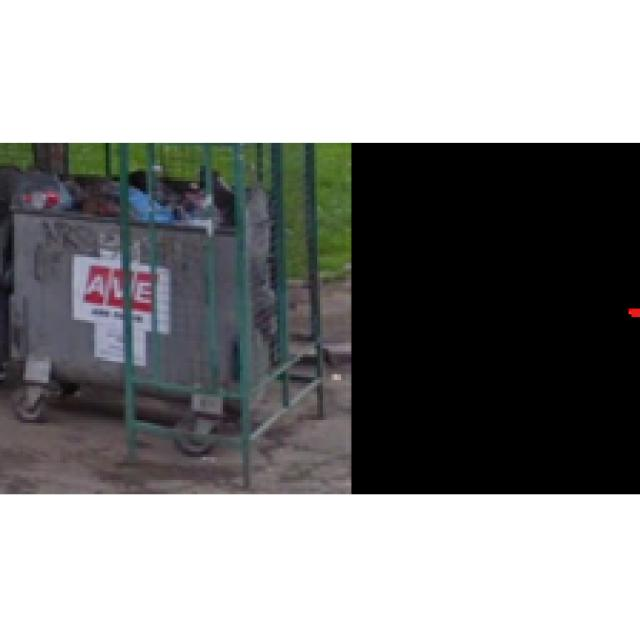general wastetrash bin: (12, 165, 291, 474)
